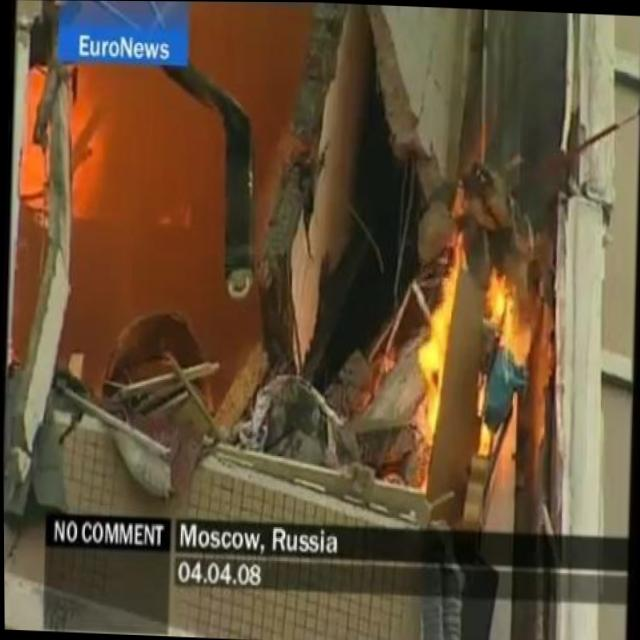fire: (414, 221, 540, 473)
